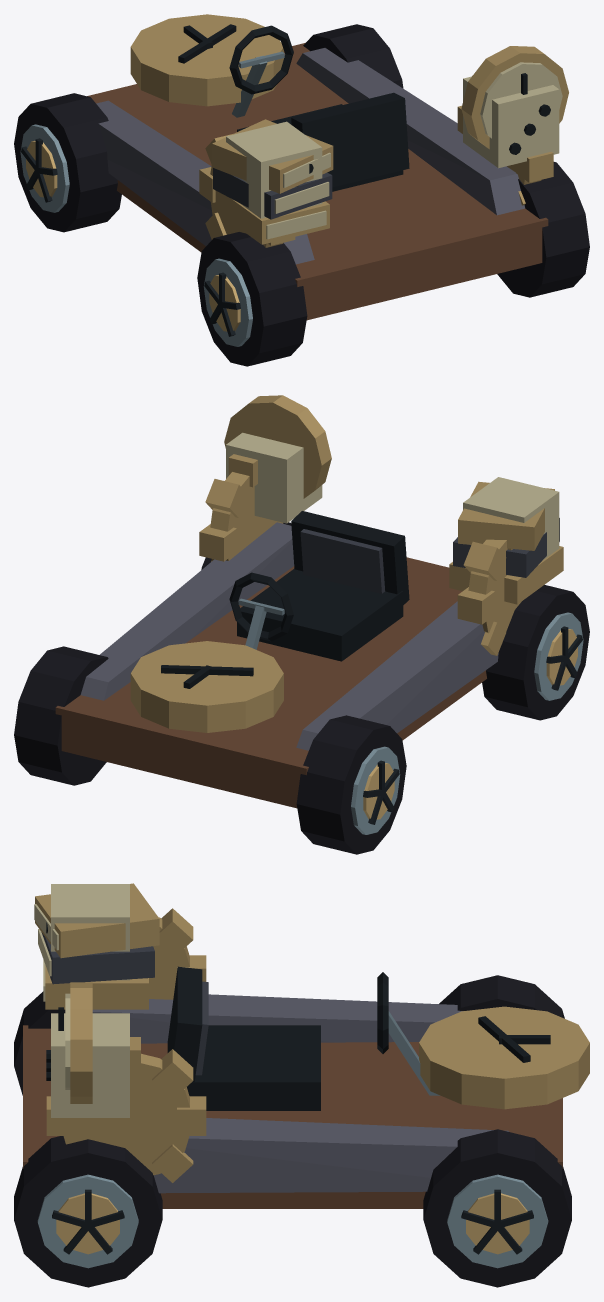
The model's file is kart.glb.
The picture shows the model from 3 angles, top to bottom: view 1: azimuth 30°, elevation 25°; view 2: azimuth 150°, elevation 25°; view 3: azimuth 270°, elevation 25°; orthographic projection. The views are drawn at different scales.
Visible parts, largest first — view 1: identity-clockwork-clockwork-brass-escapement, wheel-rear-left, wheel-front-left, identity-clockwork-driver-cockpit, identity-clockwork-motif-dice, identity-clockwork-motif-books, wheel-rear-right, identity-clockwork-motif-clock, wheel-front-right; view 2: identity-clockwork-clockwork-brass-escapement, identity-clockwork-driver-cockpit, wheel-front-left, wheel-rear-left, identity-clockwork-motif-dice, wheel-front-right, identity-clockwork-motif-books, identity-clockwork-motif-clock; view 3: identity-clockwork-clockwork-brass-escapement, wheel-front-right, wheel-rear-right, identity-clockwork-driver-cockpit, identity-clockwork-motif-books, identity-clockwork-motif-dice, identity-clockwork-motif-clock, wheel-front-left, wheel-rear-left.
Part boxes in pixels (box(x1,y1,x2,y2)): identity-clockwork-clockwork-brass-escapement: box(87, 14, 553, 320); wheel-rear-left: box(197, 232, 307, 366); wheel-front-left: box(14, 93, 121, 232); identity-clockwork-driver-cockpit: box(229, 25, 409, 191); identity-clockwork-motif-dice: box(226, 76, 559, 218); identity-clockwork-motif-books: box(212, 119, 333, 244); wheel-rear-right: box(497, 162, 589, 297); identity-clockwork-motif-clock: box(461, 46, 568, 149); wheel-front-right: box(303, 24, 403, 88); identity-clockwork-clockwork-brass-escapement: box(55, 454, 520, 808); identity-clockwork-driver-cockpit: box(229, 511, 409, 661); wheel-front-left: box(296, 715, 406, 854); wheel-rear-left: box(482, 585, 589, 720); identity-clockwork-motif-dice: box(226, 432, 559, 560); wheel-front-right: box(14, 646, 108, 785); identity-clockwork-motif-books: box(449, 481, 563, 604); identity-clockwork-motif-clock: box(224, 395, 331, 498); identity-clockwork-clockwork-brass-escapement: box(23, 908, 589, 1208); wheel-front-right: box(423, 1129, 571, 1287); wheel-rear-right: box(14, 1136, 162, 1287); identity-clockwork-driver-cockpit: box(167, 966, 439, 1110); identity-clockwork-motif-books: box(34, 883, 159, 1009); identity-clockwork-motif-dice: box(46, 884, 129, 1117); identity-clockwork-motif-clock: box(58, 982, 92, 1103); wheel-front-left: box(439, 975, 564, 1018); wheel-rear-left: box(14, 991, 65, 1095).
Bounding box in the file's own units: 1.99 × 1.35 × 2.56.
